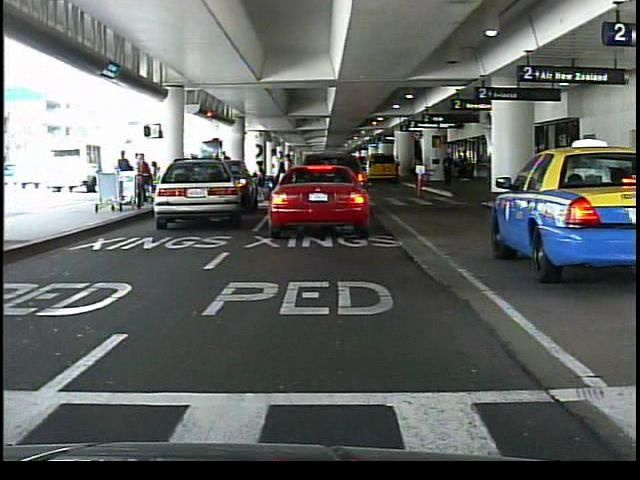person: (270, 147, 285, 208), (219, 149, 236, 201), (115, 148, 130, 203), (257, 159, 274, 204), (344, 151, 360, 198), (442, 152, 455, 187)
